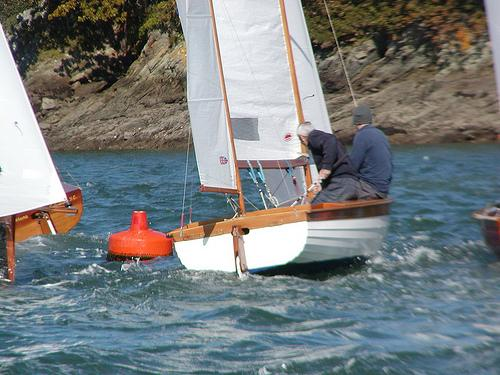Ship: (167, 1, 395, 275)
